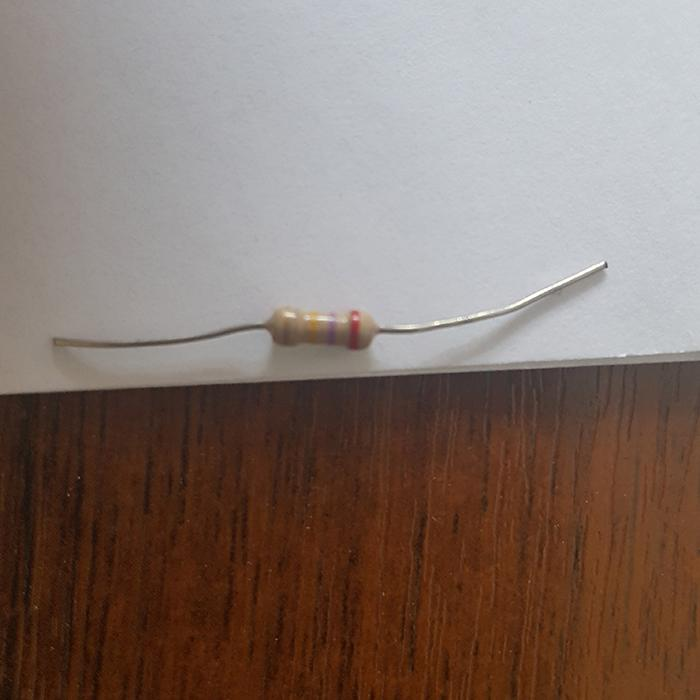resistor: (268, 306, 378, 349)
